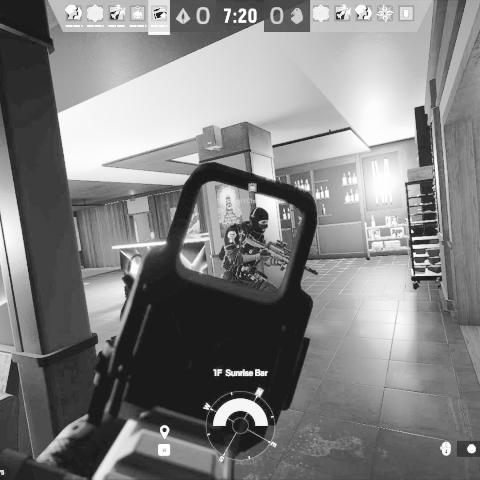Character: (218, 202, 290, 292)
Friend_label: (231, 182, 275, 204)
Head: (249, 206, 272, 234)
